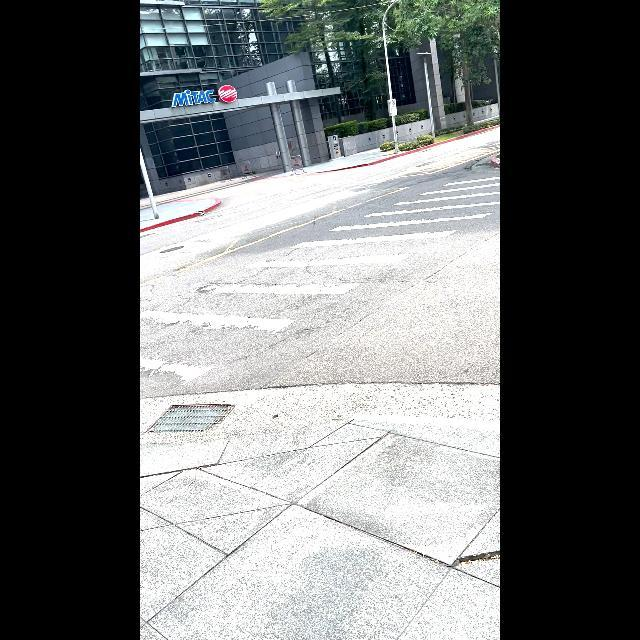sidewalk: (140, 171, 500, 387)
